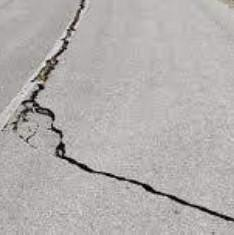crack: (58, 155, 234, 220), (31, 0, 88, 103)
pothole: (14, 96, 68, 160)
